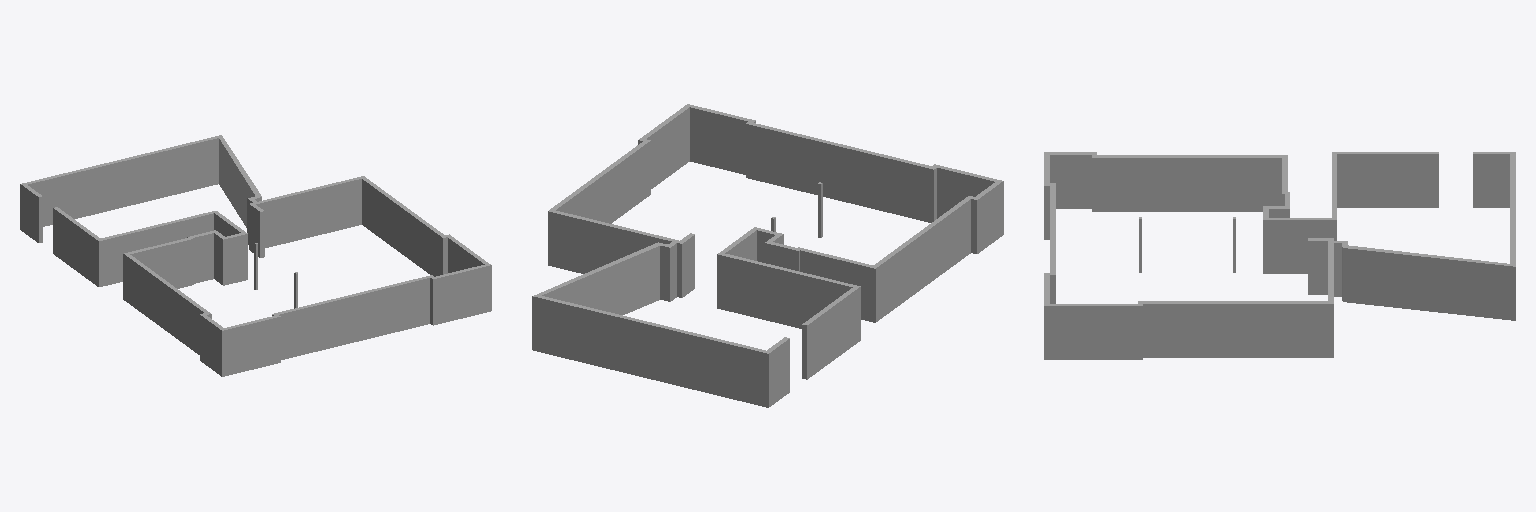
URDF robot description (sensorlab_walls):
<?xml version="1.0"?>

<robot name="sensorlab_walls">

  <material name="grey">
    <color rgba="0.7 0.7 0.7 1" />
  </material>

  <link name="map">
    <visual>
      <origin rpy="0.0 0 0" xyz="0 0 0" />
      <geometry>
        <mesh filename="package://pbr_gazebo/Media/models/pbr_robot_lab.stl" />
      </geometry>
      <material name="grey" />
    </visual>
  </link>
</robot>

--- Facts derived from the render (not from the file) ---
Views: 3 orthographic renders of the robot side by side, from view 1: azimuth 30°, elevation 25°; view 2: azimuth 150°, elevation 25°; view 3: azimuth 270°, elevation 25°.
Model sensorlab_walls with 1 links and 0 joints (none), rooted at map, posed all joints at 0.
Visible links, largest first — view 1: map; view 2: map; view 3: map.
Boxes of the visible links, x1,y1,x2,y2 form: map: (20, 135, 491, 376); map: (532, 104, 1003, 407); map: (1044, 152, 1515, 359).
Bounding box of the posed robot: 15.9 × 20.5 × 2.6 m (x, y, z).
Meshes: 1 distinct files referenced, 1 mesh visuals loaded (1 binary STL).